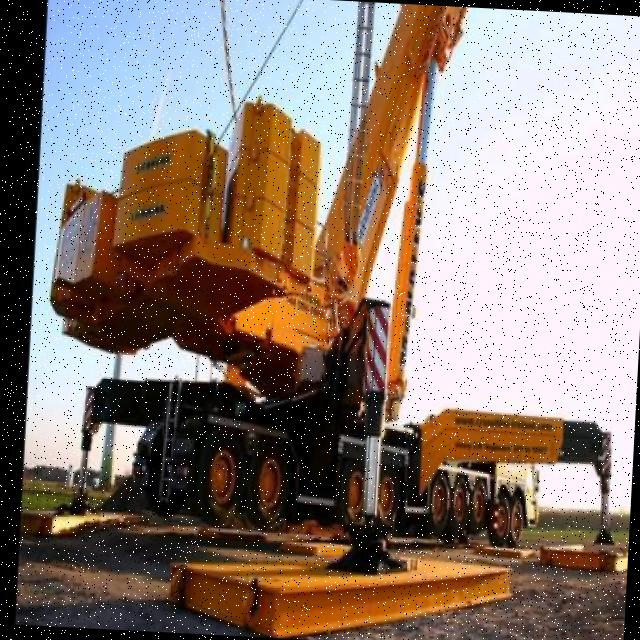Mobile Crane: (33, 0, 640, 591)
